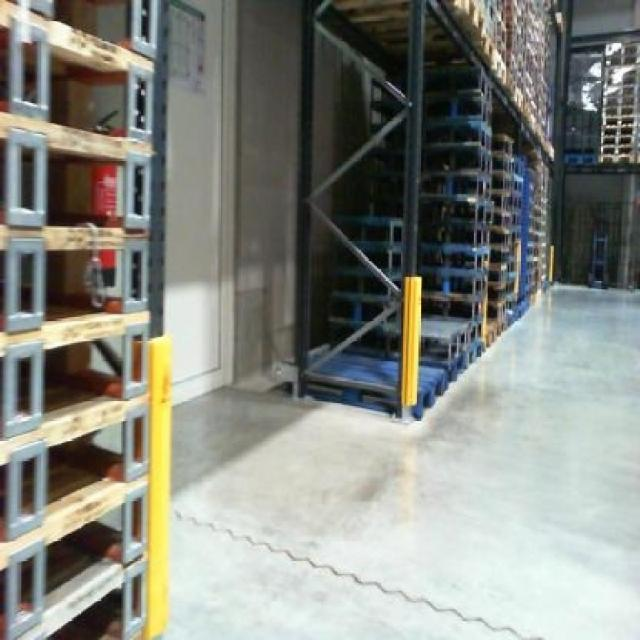pallets: (297, 0, 557, 414)
